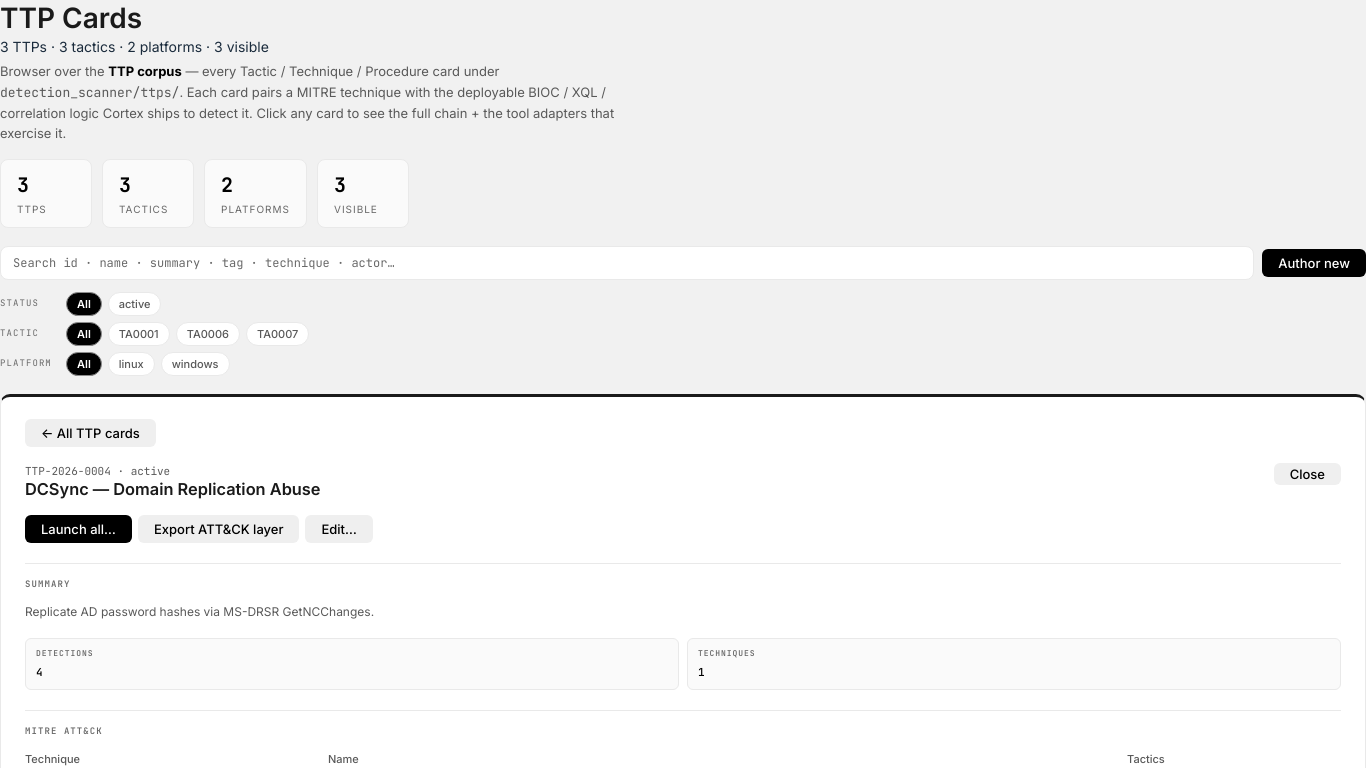
Scenario: <TtpBrowserView /> — authoring affordances (issue #59) › detail panel exposes an Edit… button that switches to the editor
What coordinates should you click on to do the following:
click the button with test id "ttp-edit"
I would click on:
 (339, 529)
Its box is top-left (306, 515), bottom-right (373, 543).
(page scrolled)
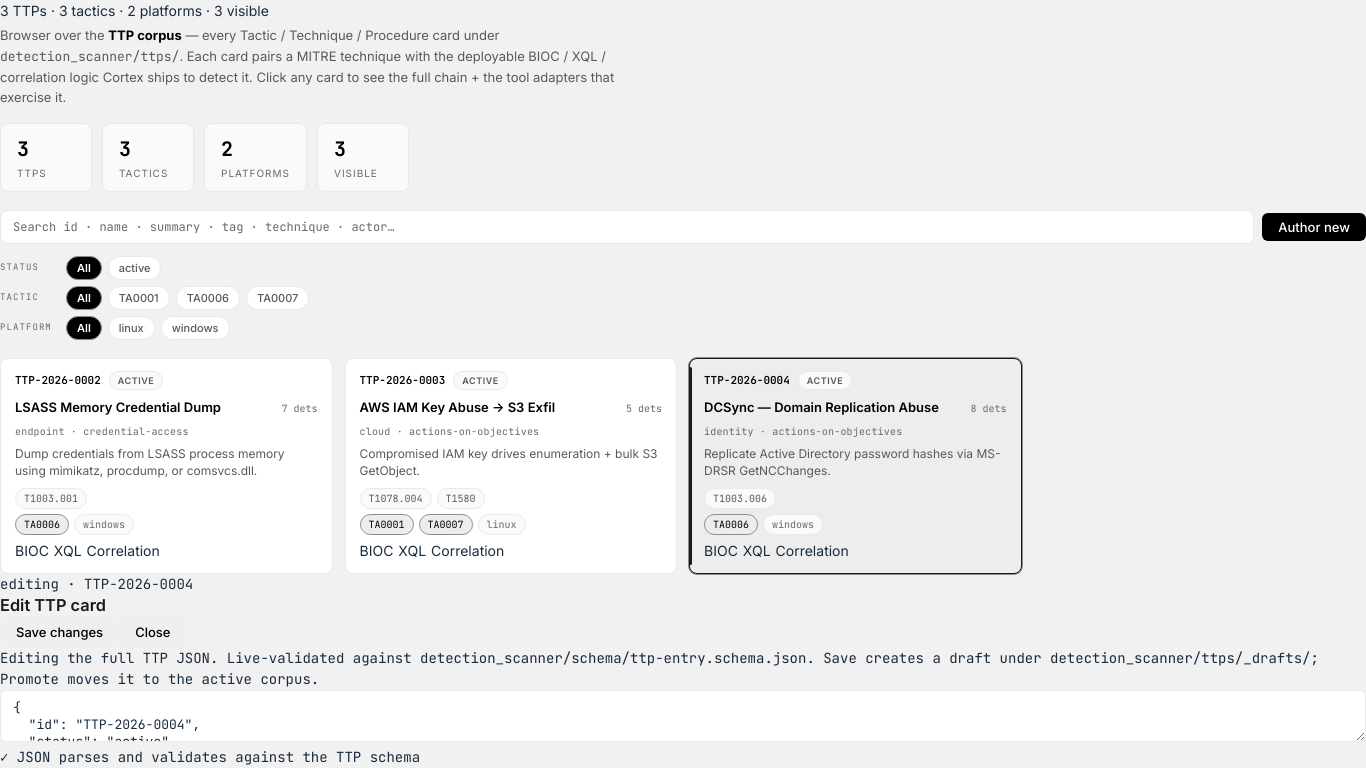
Expected: the element with test id "ttp-editor" is shown, top-left (0, 574), bottom-right (1365, 767)
